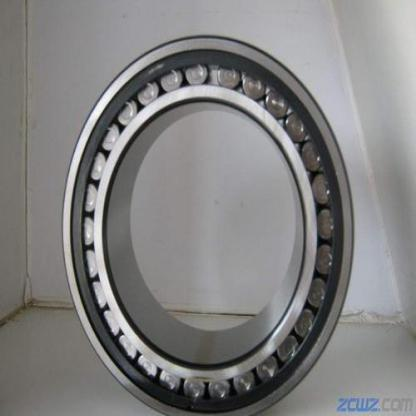FOD: (58, 31, 359, 415)
